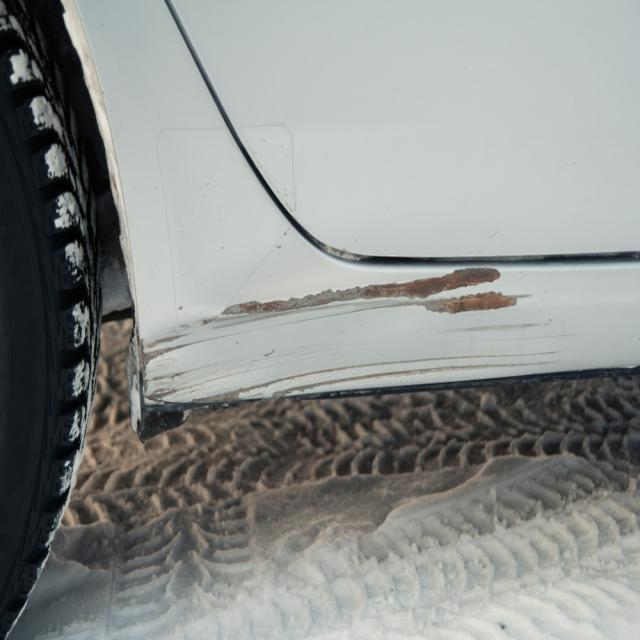scratch: (138, 266, 579, 410)
